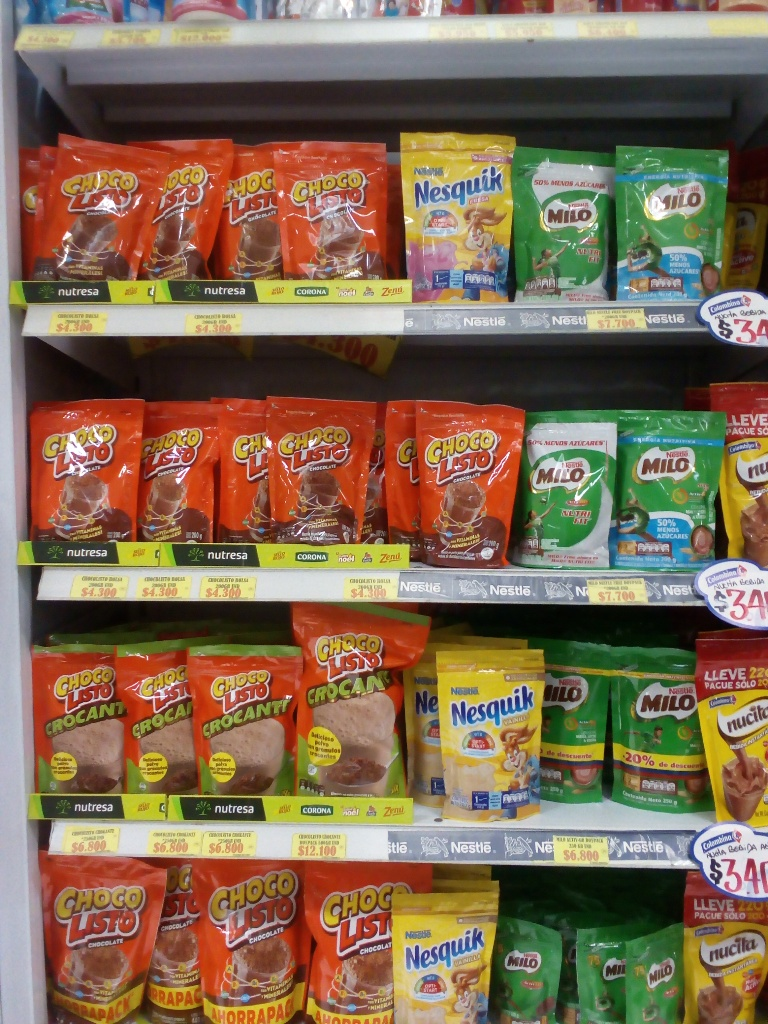COL0170102DYP25000: (34, 648, 121, 791)
COL0170102DYP50000: (296, 603, 426, 801)
COL0170103DYP20000: (18, 141, 156, 282)
COL0170103DYP40000: (41, 850, 151, 1022)
COL0170203DYP10000: (497, 916, 562, 1024)
COL0170203DYP25000: (534, 635, 611, 805)
COL0170205DYP20000: (515, 148, 613, 301)
COL0170305DYP20000: (399, 130, 514, 302)
COL0170306DYP20000: (438, 650, 538, 824)
